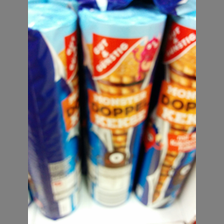chocolate: (80, 8, 163, 206), (28, 4, 79, 219), (142, 14, 195, 211)
